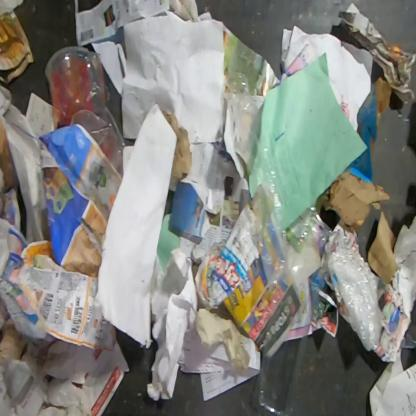cardboard: (0, 338, 100, 415), (319, 171, 391, 237), (343, 80, 378, 183), (384, 214, 416, 326), (89, 334, 132, 415), (0, 8, 36, 85), (366, 208, 398, 284), (162, 109, 192, 180), (0, 327, 28, 367), (373, 76, 394, 115)
rigid_plastic: (43, 44, 127, 176)
soft_plastic: (223, 67, 333, 416), (324, 224, 384, 353)
